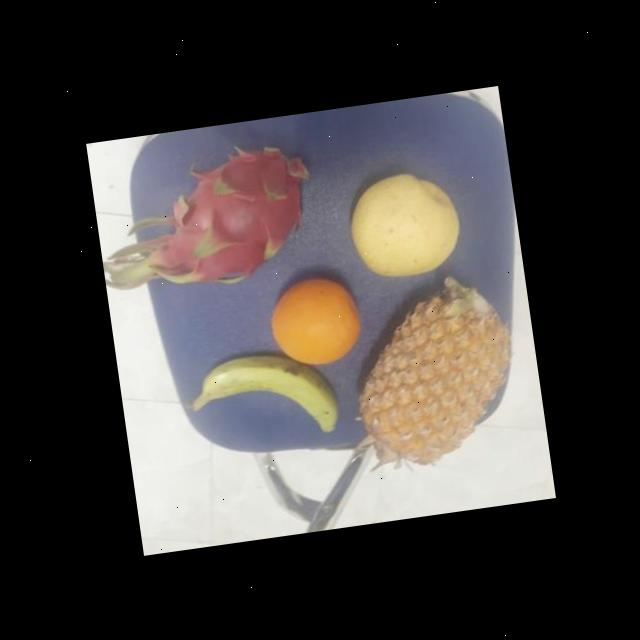banana: (184, 342, 352, 451)
orange: (262, 270, 370, 370)
pear: (339, 164, 470, 286)
pineapple: (345, 273, 524, 467)
pitaya: (142, 140, 329, 288)
